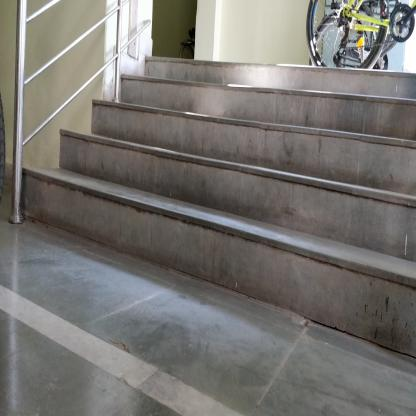stairs: (141, 62, 406, 341)
